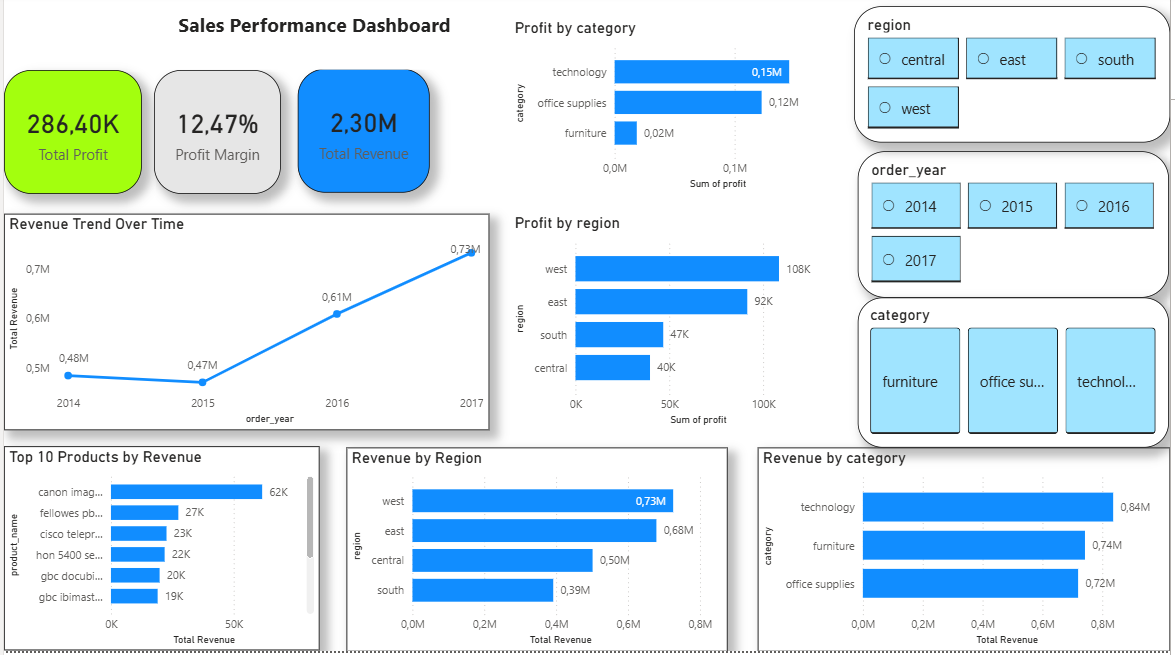

The page's visual inventory and layout, read from the dashboard file:
{"tool":"powerbi","page":{"name":"Sales Performance DashBoard","canvas":[1280,720],"ordinal":0},"visuals":[{"type":"lineChart","title":"Revenue Trend Over Time","fields":{"Category":["superstore_cleaned.order_year"],"Y":["superstore_cleaned.Total Revenue"]},"box":[0,240.1,532.4,237.4],"z":0},{"type":"clusteredBarChart","title":"Top 10 Products by Revenue","fields":{"Category":["superstore_cleaned.product_name"],"Y":["superstore_cleaned.Total Revenue"]},"box":[0,495.3,346.7,224.2],"z":1000},{"type":"clusteredBarChart","title":"Revenue by category","fields":{"Category":["superstore_cleaned.category"],"Y":["superstore_cleaned.Total Revenue"]},"box":[827.4,496.7,452.8,223.7],"z":2000},{"type":"clusteredBarChart","title":"Revenue by Region","fields":{"Category":["superstore_cleaned.region"],"Y":["superstore_cleaned.Total Revenue"]},"box":[376,496.7,418.5,223.7],"z":3000},{"type":"card","fields":{"Values":["superstore_cleaned.Total Profit"]},"box":[0,82.5,151.3,136.2],"z":4000},{"type":"card","fields":{"Values":["superstore_cleaned.Profit Margin"]},"box":[165.1,82.5,139,136.2],"z":5000},{"type":"card","fields":{"Values":["superstore_cleaned.Total Revenue"]},"box":[321.9,81.2,144.5,136.2],"z":6000},{"type":"advancedSlicerVisual","fields":{"Values":["superstore_cleaned.order_year"]},"box":[937.2,171.5,341.7,160.5],"z":7000},{"type":"advancedSlicerVisual","fields":{"Values":["superstore_cleaned.category"]},"box":[937.2,332.1,341.7,164.7],"z":8000},{"type":"advancedSlicerVisual","fields":{"Values":["superstore_cleaned.region"]},"box":[933.1,12.3,347.2,149.6],"z":9000},{"type":"textbox","box":[164.7,12.3,352.7,70],"z":10000},{"type":"clusteredBarChart","title":"Profit by category","fields":{"Category":["superstore_cleaned.category"],"Y":["Sum(superstore_cleaned.profit)"]},"box":[555.7,26.1,360.9,192.1],"z":11000},{"type":"clusteredBarChart","title":"Profit by region","fields":{"Category":["superstore_cleaned.region"],"Y":["Sum(superstore_cleaned.profit)"]},"box":[555.7,240.1,360.9,237.4],"z":12000}]}

Visuals, with their boxes in screenshot pixels (x1, y1, x2, y2), scaled from the page's 1280x720 canvas onto the 1175x655 screenshot:
"Revenue Trend Over Time" lineChart: box=[0, 218, 489, 434]
"Top 10 Products by Revenue" clusteredBarChart: box=[0, 451, 318, 654]
"Revenue by category" clusteredBarChart: box=[760, 452, 1174, 654]
"Revenue by Region" clusteredBarChart: box=[345, 452, 729, 654]
card - superstore_cleaned.Total Profit: box=[0, 75, 139, 199]
card - superstore_cleaned.Profit Margin: box=[152, 75, 279, 199]
card - superstore_cleaned.Total Revenue: box=[295, 74, 428, 198]
advancedSlicerVisual - superstore_cleaned.order_year: box=[860, 156, 1174, 302]
advancedSlicerVisual - superstore_cleaned.category: box=[860, 302, 1174, 452]
advancedSlicerVisual - superstore_cleaned.region: box=[857, 11, 1174, 147]
textbox: box=[151, 11, 475, 75]
"Profit by category" clusteredBarChart: box=[510, 24, 841, 199]
"Profit by region" clusteredBarChart: box=[510, 218, 841, 434]
